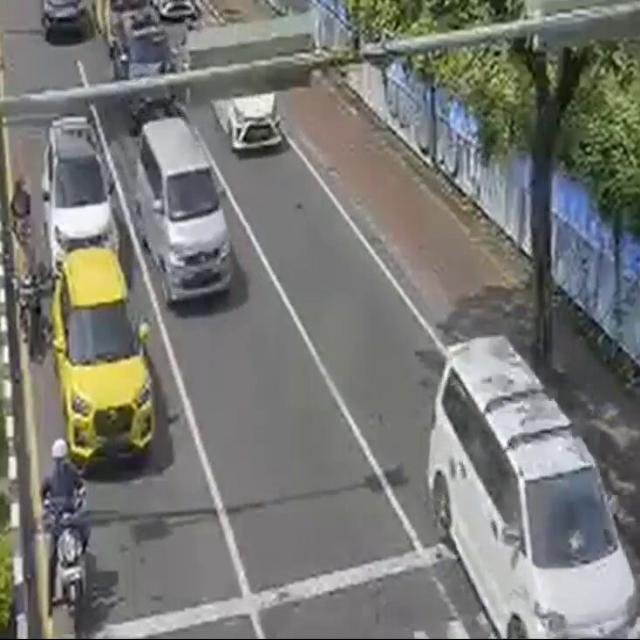car: (427, 350, 640, 640), (49, 249, 167, 468), (132, 114, 234, 300), (38, 117, 131, 288)
motorbike: (29, 439, 96, 633)
